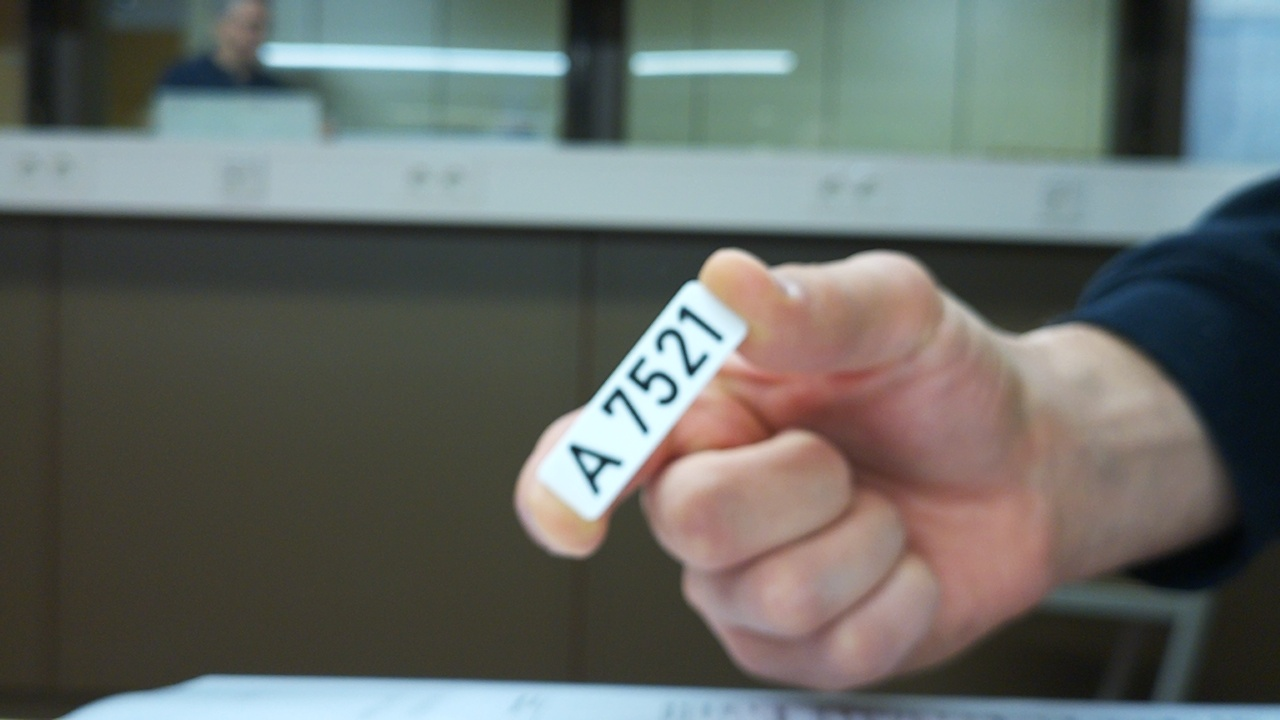license_plate: (534, 273, 752, 526)
